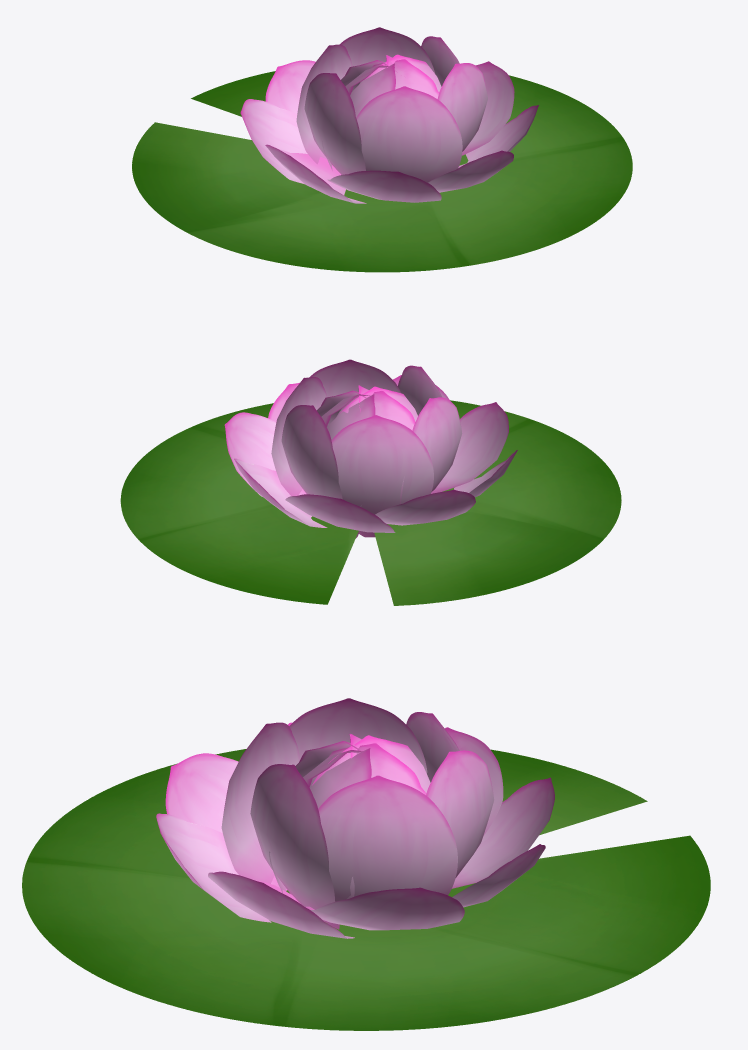
Rendered from M_lotus.FBX.
3 renders of one model, top to bottom at view 1: azimuth 30°, elevation 25°; view 2: azimuth 150°, elevation 25°; view 3: azimuth 270°, elevation 25°, orthographic. The views are drawn at different scales.
Visible parts, largest first — view 1: Plane229, Plane238, Plane239, Plane246, Plane237, Plane248, Plane243, Plane241, Plane240, Plane247, Plane249, Plane245 (+5 smaller); view 2: Plane229, Plane240, Plane241, Plane248, Plane239, Plane243, Plane246, Plane245, Plane236, Plane237, Plane244, Plane238 (+4 smaller); view 3: Plane229, Plane236, Plane237, Plane238, Plane241, Plane243, Plane245, Plane239, Plane249, Plane248, Plane242, Plane244 (+7 smaller).
Boxes of the visible parts, left/top/right/bottom form: Plane229: left=132, top=71, right=632, bottom=272; Plane238: left=356, top=86, right=462, bottom=182; Plane239: left=304, top=73, right=365, bottom=174; Plane246: left=240, top=99, right=307, bottom=184; Plane237: left=437, top=63, right=487, bottom=151; Plane248: left=327, top=170, right=441, bottom=202; Plane243: left=462, top=61, right=514, bottom=155; Plane241: left=339, top=27, right=435, bottom=73; Plane240: left=296, top=44, right=352, bottom=164; Plane247: left=265, top=144, right=366, bottom=203; Plane249: left=428, top=150, right=513, bottom=192; Plane245: left=265, top=60, right=315, bottom=113; Plane229: left=120, top=400, right=621, bottom=605; Plane240: left=331, top=415, right=433, bottom=514; Plane241: left=281, top=405, right=342, bottom=499; Plane248: left=431, top=402, right=508, bottom=493; Plane239: left=400, top=397, right=462, bottom=503; Plane243: left=224, top=412, right=276, bottom=496; Plane246: left=375, top=489, right=475, bottom=525; Plane245: left=285, top=494, right=395, bottom=532; Plane236: left=271, top=377, right=326, bottom=496; Plane237: left=310, top=359, right=400, bottom=397; Plane244: left=234, top=458, right=327, bottom=527; Plane238: left=398, top=365, right=441, bottom=415; Plane229: left=22, top=749, right=710, bottom=1030; Plane236: left=318, top=775, right=457, bottom=901; Plane237: left=250, top=764, right=339, bottom=929; Plane238: left=221, top=722, right=299, bottom=883; Plane241: left=426, top=750, right=494, bottom=877; Plane243: left=305, top=887, right=464, bottom=930; Plane245: left=452, top=777, right=554, bottom=888; Plane239: left=289, top=698, right=427, bottom=773; Plane249: left=156, top=813, right=287, bottom=922; Plane248: left=165, top=753, right=238, bottom=832; Plane242: left=208, top=871, right=354, bottom=938; Plane244: left=452, top=844, right=545, bottom=907.
Size of the model in its own units: 167 by 49.76 by 165.
